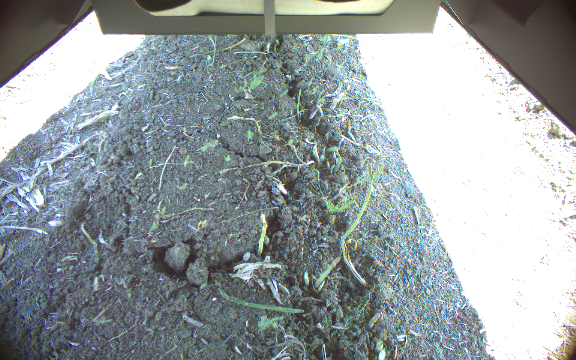aspa: (340, 161, 377, 242), (312, 257, 342, 291), (255, 216, 268, 259)
